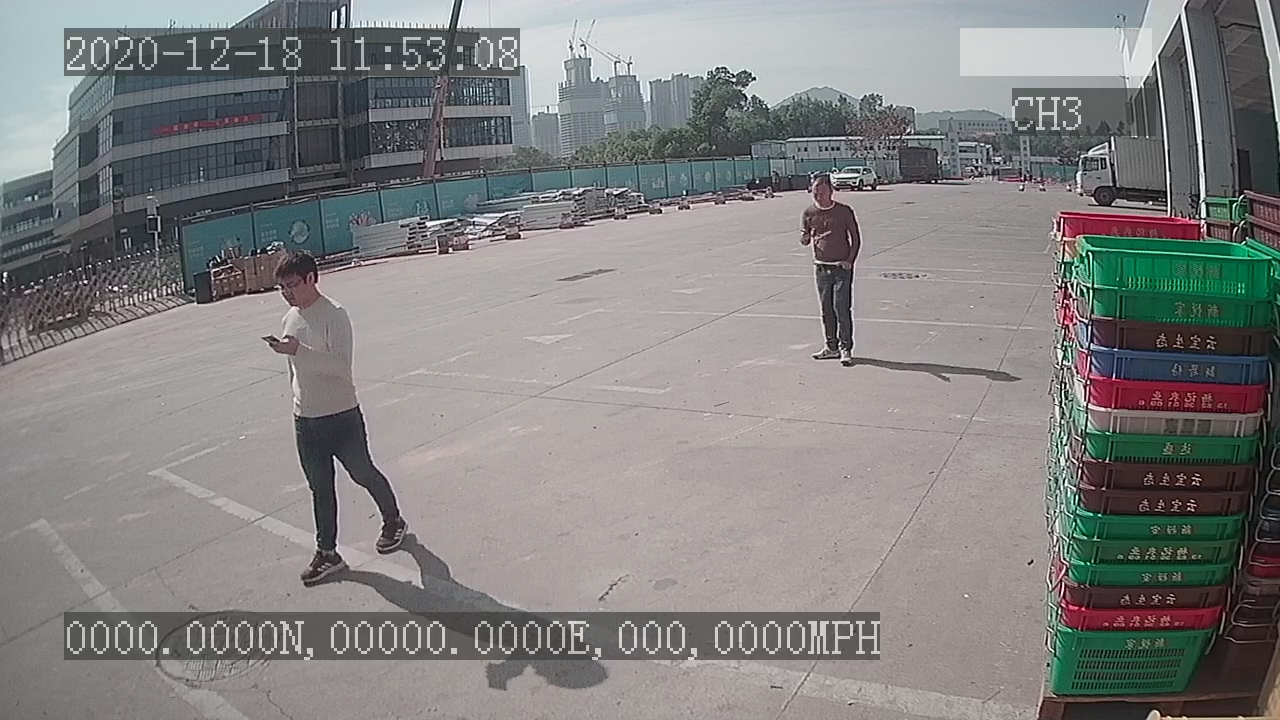person: (256, 249, 411, 595), (792, 163, 863, 370)
